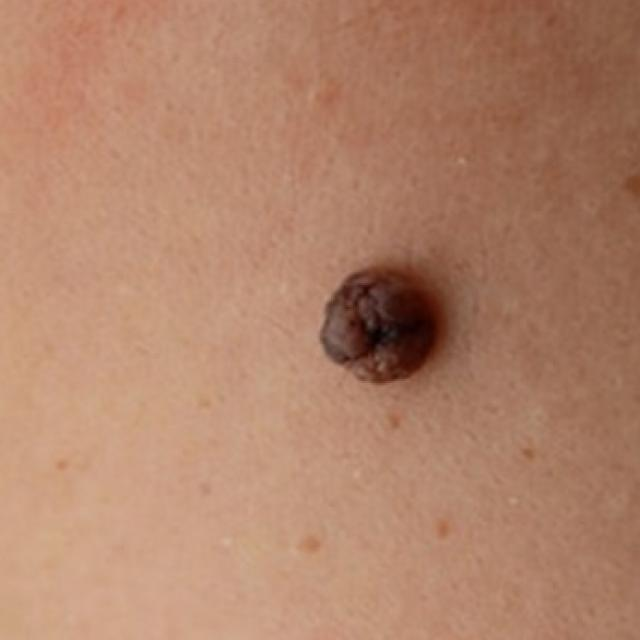wart: (312, 262, 460, 390)
